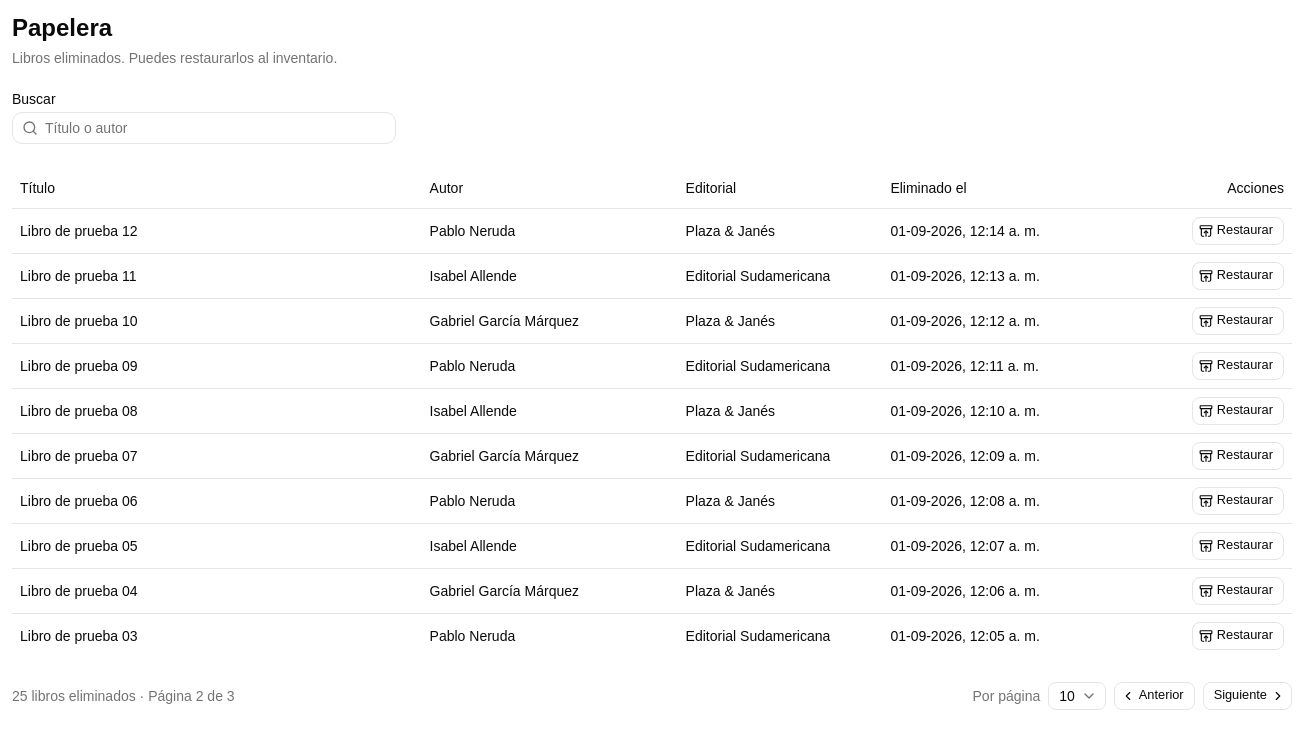
Scenario: TrashPage › busca con debounce, guarda la búsqueda en la URL y vuelve a la página 1
This screenshot has width=1304, height=732.
Expected: the text "25 libros eliminados · Página 2 de 3" is shown, left=12, top=686, right=235, bottom=706
Type "allende" into the search field labelled "Buscar" at (204, 128), box left=12, top=112, right=396, bottom=144
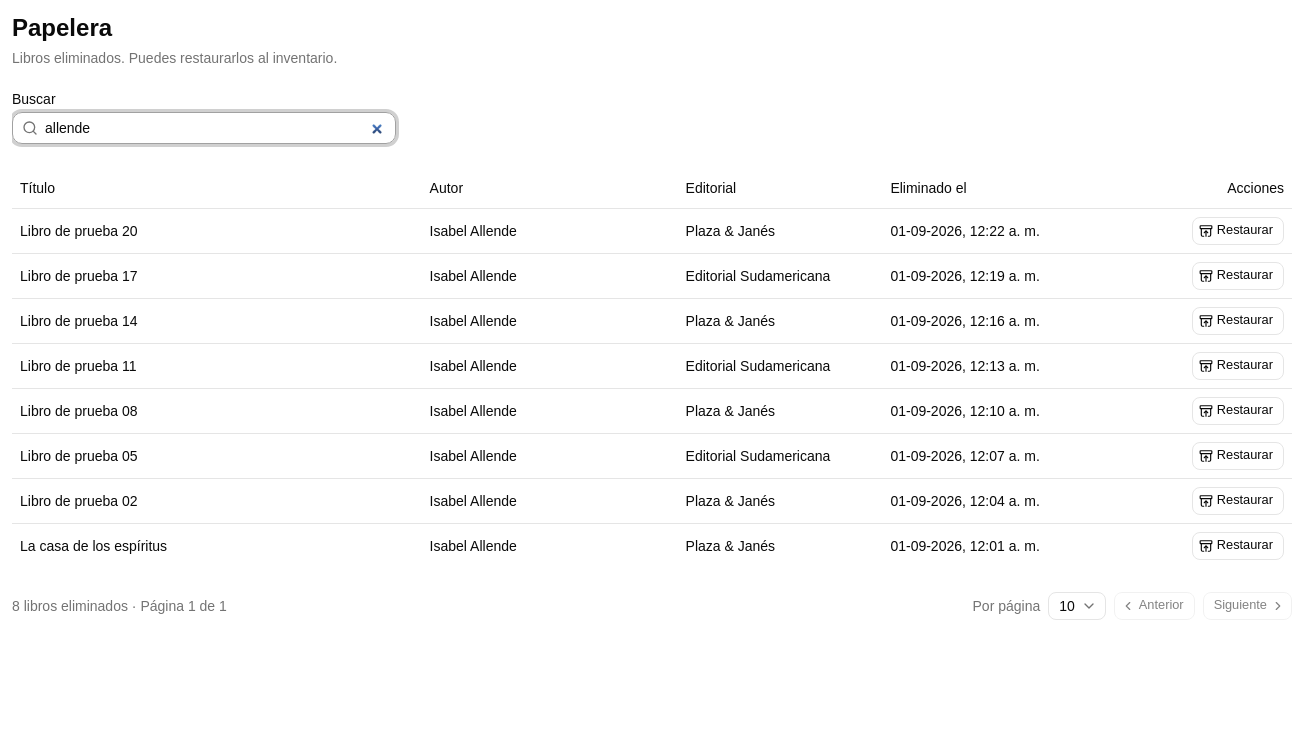
Now the number of rows is 9
Now the text "La casa de los espíritus" is shown, box left=12, top=523, right=422, bottom=568
